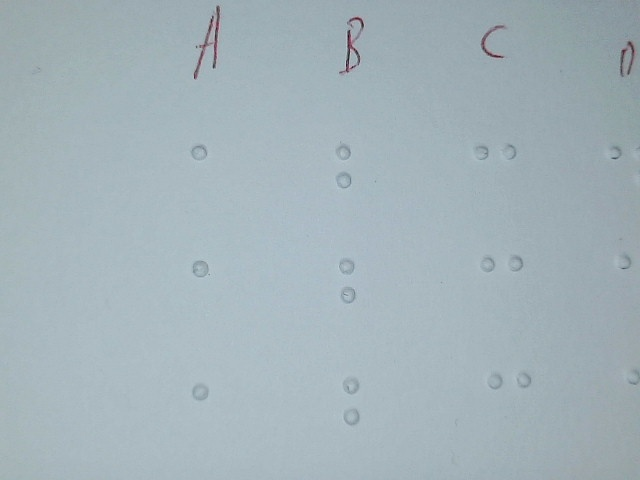A: (182, 134, 243, 226), (181, 247, 242, 339), (183, 371, 244, 463)
B: (329, 247, 390, 335), (327, 135, 388, 223), (335, 367, 396, 455)
C: (465, 134, 526, 217), (471, 246, 532, 329), (477, 361, 538, 444)
